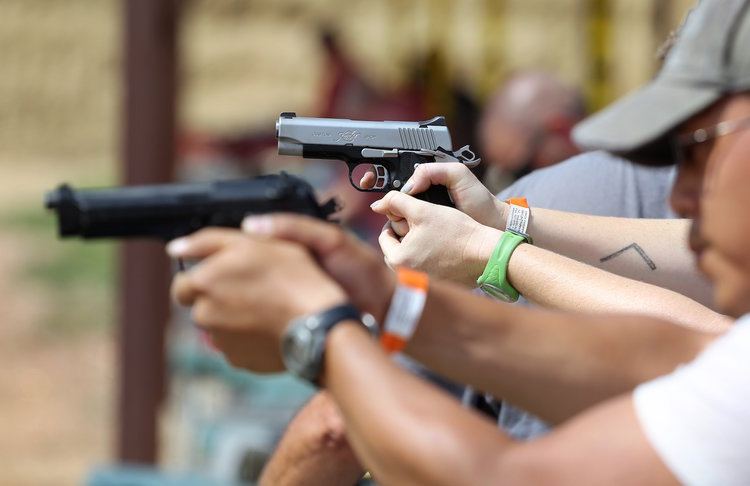Gun: (276, 102, 462, 179)
